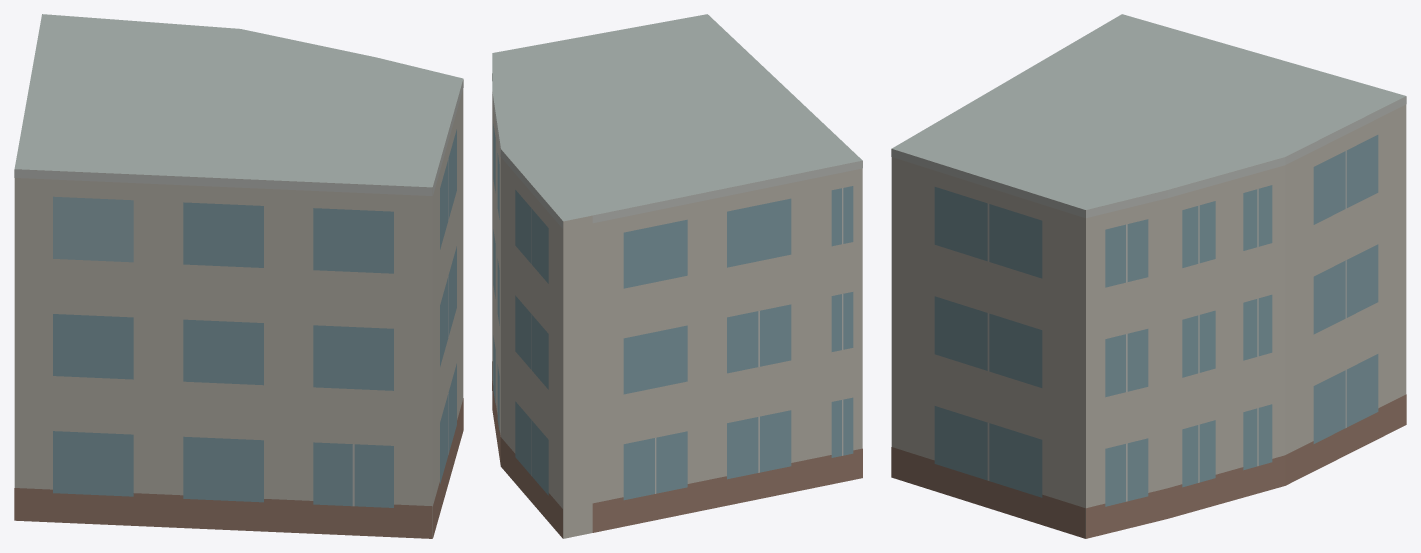
The model's file is survey-upis-32954494.glb.
The picture shows the model from 3 angles, left to right: view 1: azimuth 30°, elevation 25°; view 2: azimuth 150°, elevation 25°; view 3: azimuth 270°, elevation 25°; orthographic projection. The views are drawn at different scales.
Parts seen in each view (by area): view 1: survey-upis-32954494.tmp; view 2: survey-upis-32954494.tmp; view 3: survey-upis-32954494.tmp.
Boxes of the visible parts, x1=… form: survey-upis-32954494.tmp: x1=14, y1=14, x2=463, y2=538; survey-upis-32954494.tmp: x1=492, y1=14, x2=862, y2=538; survey-upis-32954494.tmp: x1=891, y1=14, x2=1406, y2=538.
Size of the model in its own units: 12.55 by 9.8 by 13.92.
